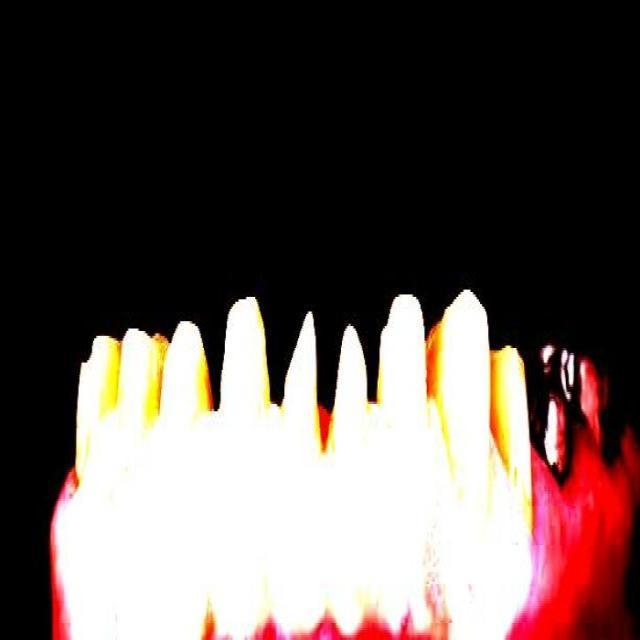CALCULUS: (150, 355, 161, 415), (493, 372, 503, 437), (109, 364, 125, 401), (424, 346, 436, 386)
